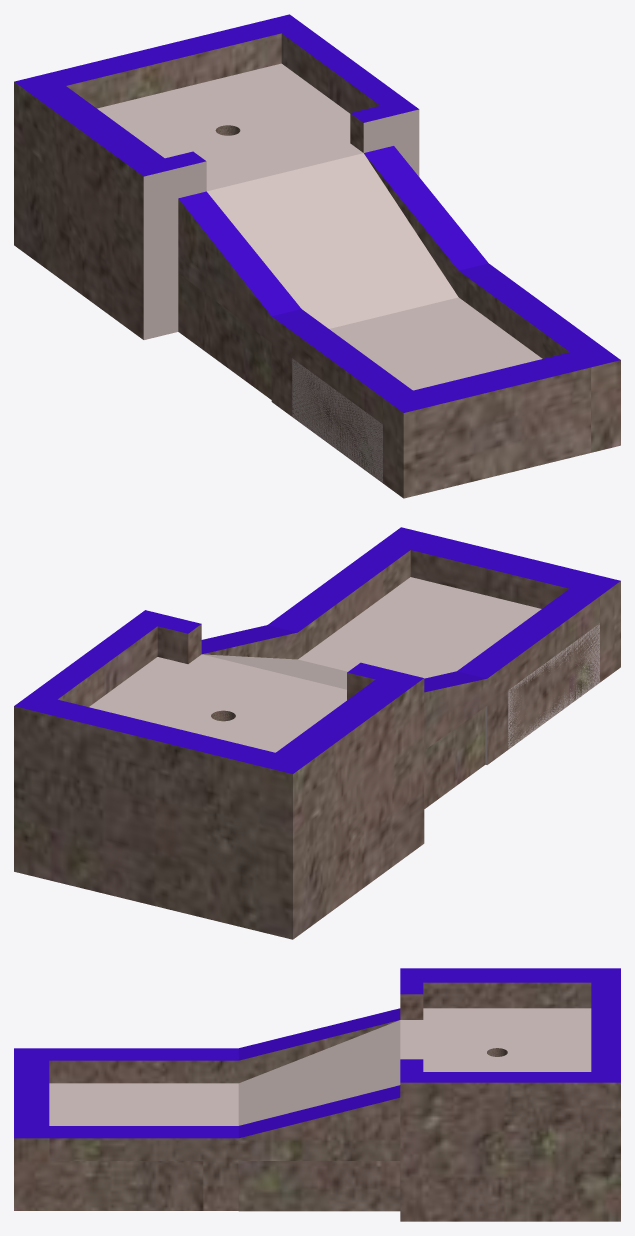
File: GolfCourse02.fbx
3 renders of one model, top to bottom at view 1: azimuth 30°, elevation 25°; view 2: azimuth 150°, elevation 25°; view 3: azimuth 270°, elevation 25°, orthographic. The views are drawn at different scales.
Parts seen in each view (by area): view 1: Plane; view 2: Plane; view 3: Plane.
Boxes of the visible parts, x1,y1,x2,y2 form: Plane: (14,14,620,498); Plane: (14,527,620,939); Plane: (14,968,620,1221).
Bounding box in the file's own units: 351 × 199 × 787.
